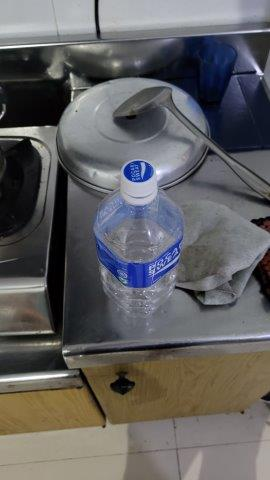botolplastik: (91, 159, 182, 316)
